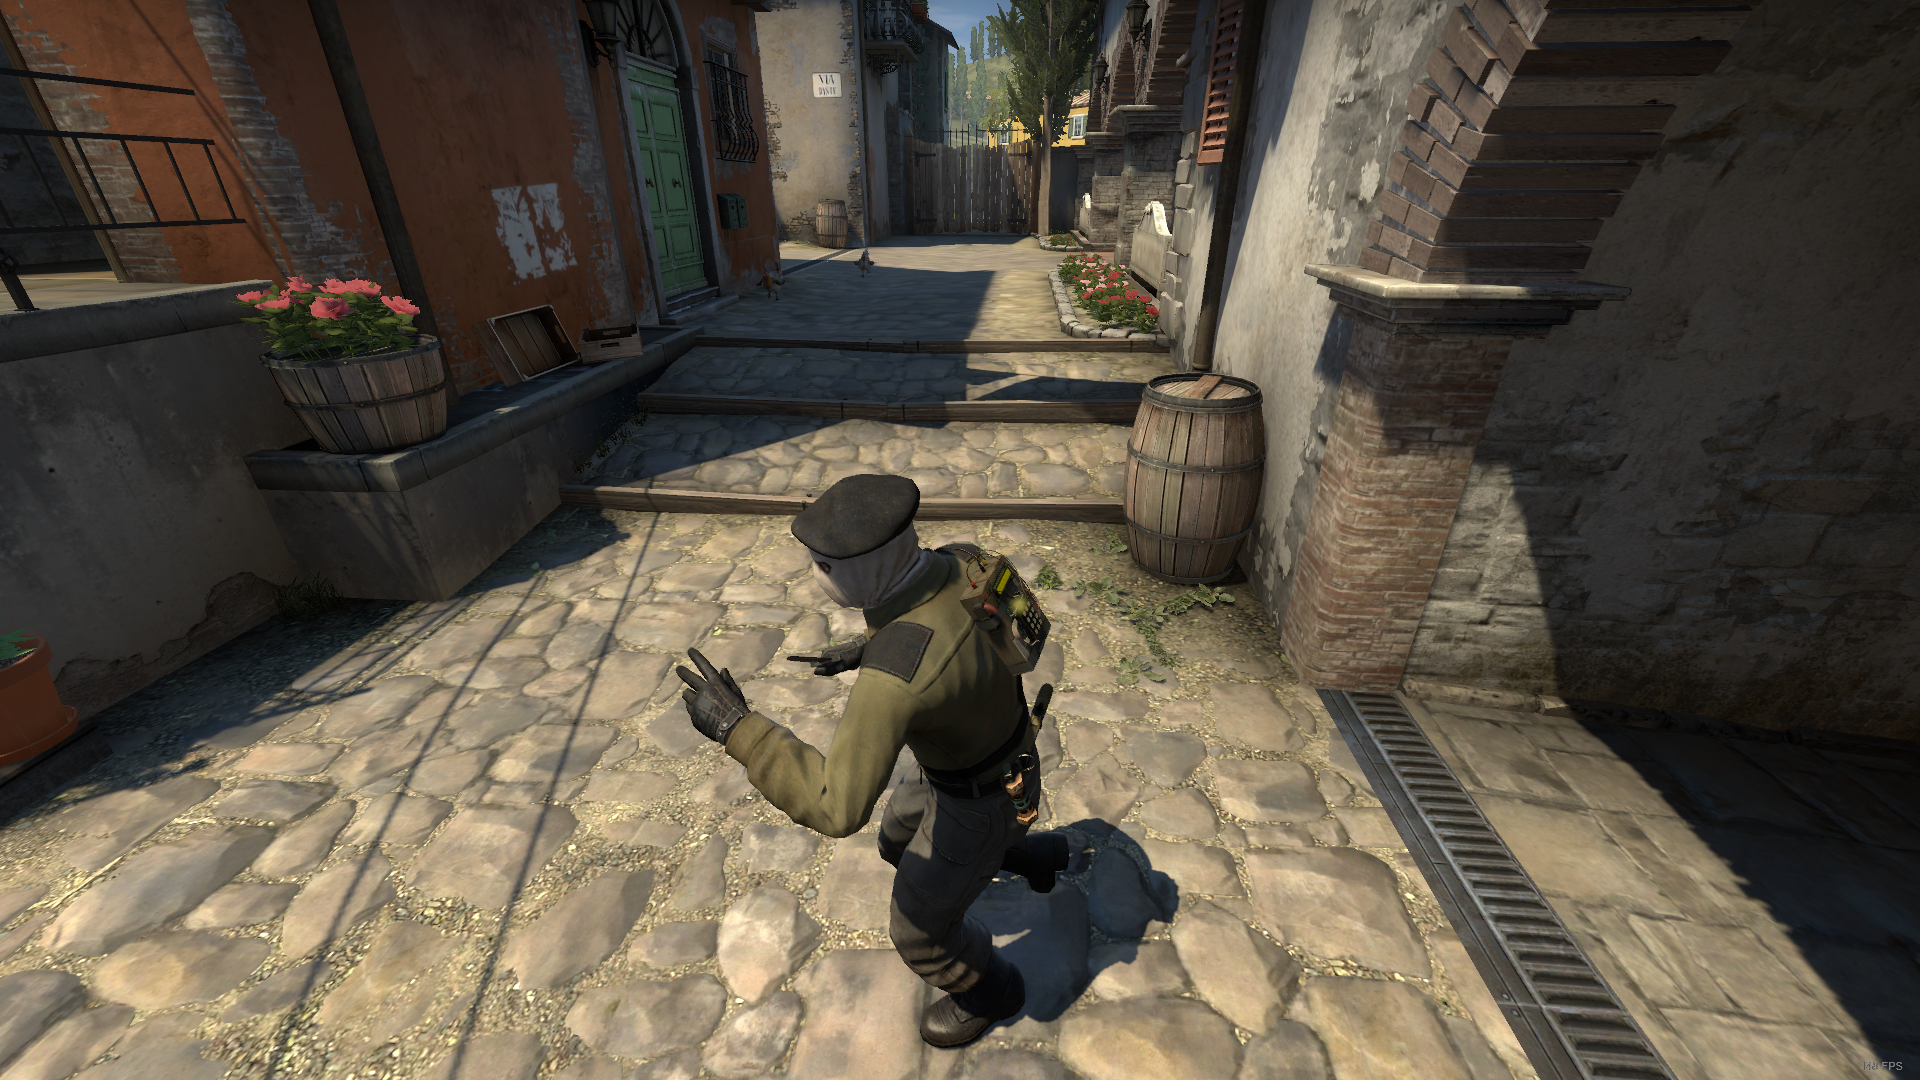t: (676, 472, 1068, 1044)
